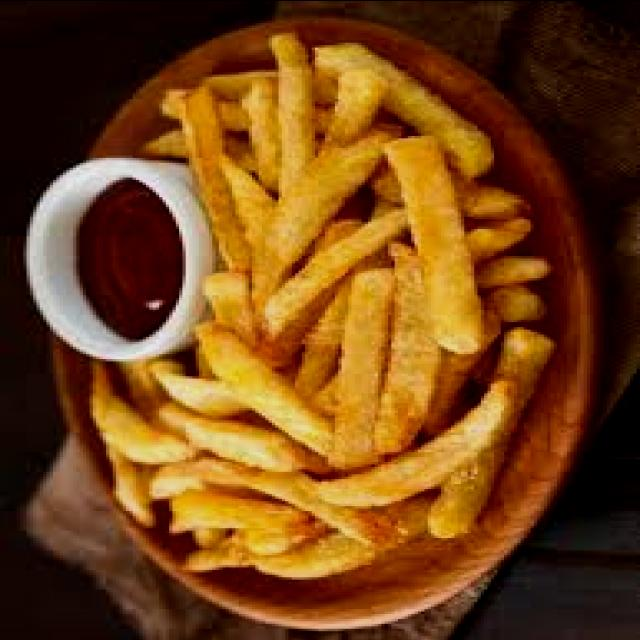kentang goreng: (93, 29, 557, 576)
